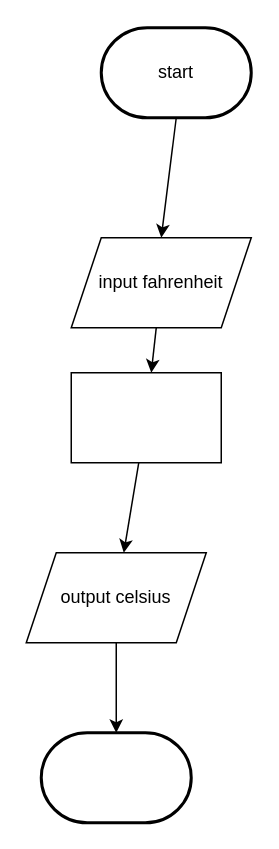
This 279x849 diagram has some shape labels left out. The shapes that lost their labels are listed below. From the top down, each one's centre as x and y in pixels, then its label:
At [145,417]: "(x F -32) x 5/9 =0 C".
At [115,777]: "Stop".
